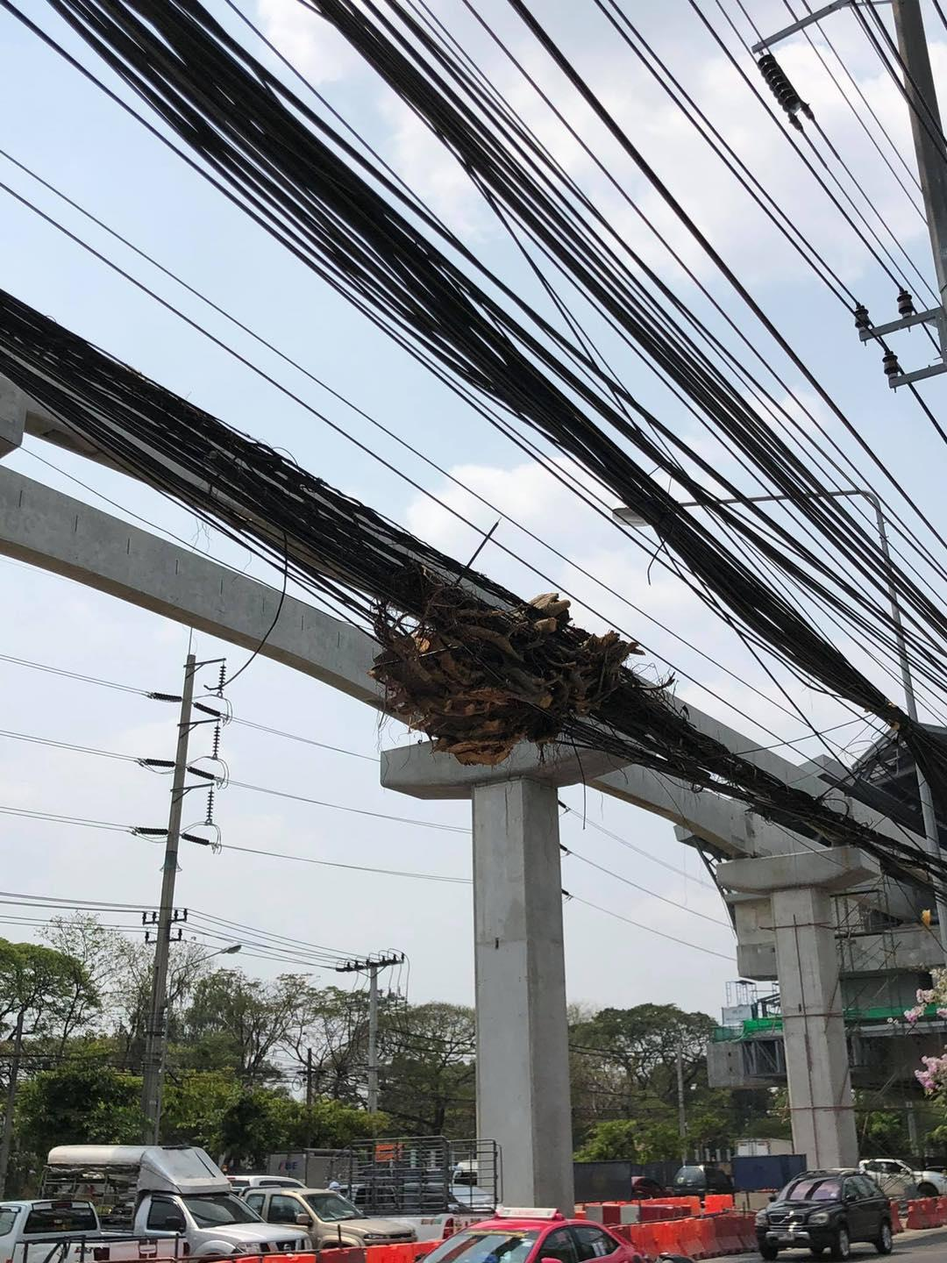wires-only: (62, 0, 943, 785)
